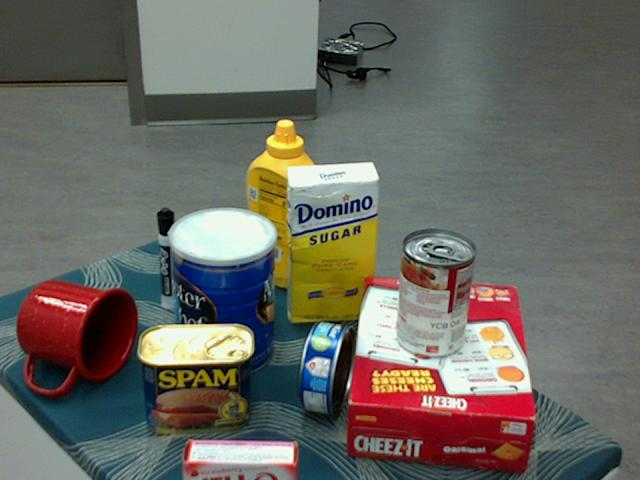cracker_box: (345, 278, 536, 468)
gelatin_box: (179, 438, 294, 479)
large_marker: (157, 206, 175, 308)
master_chef_can: (169, 208, 276, 380)
mug: (16, 278, 137, 394)
mustard_bottle: (245, 119, 321, 291)
potted_meat_can: (137, 323, 254, 432)
sugar_box: (286, 163, 379, 323)
tomato_soup_can: (394, 230, 475, 359)
tuna_fish_can: (298, 322, 355, 416)
